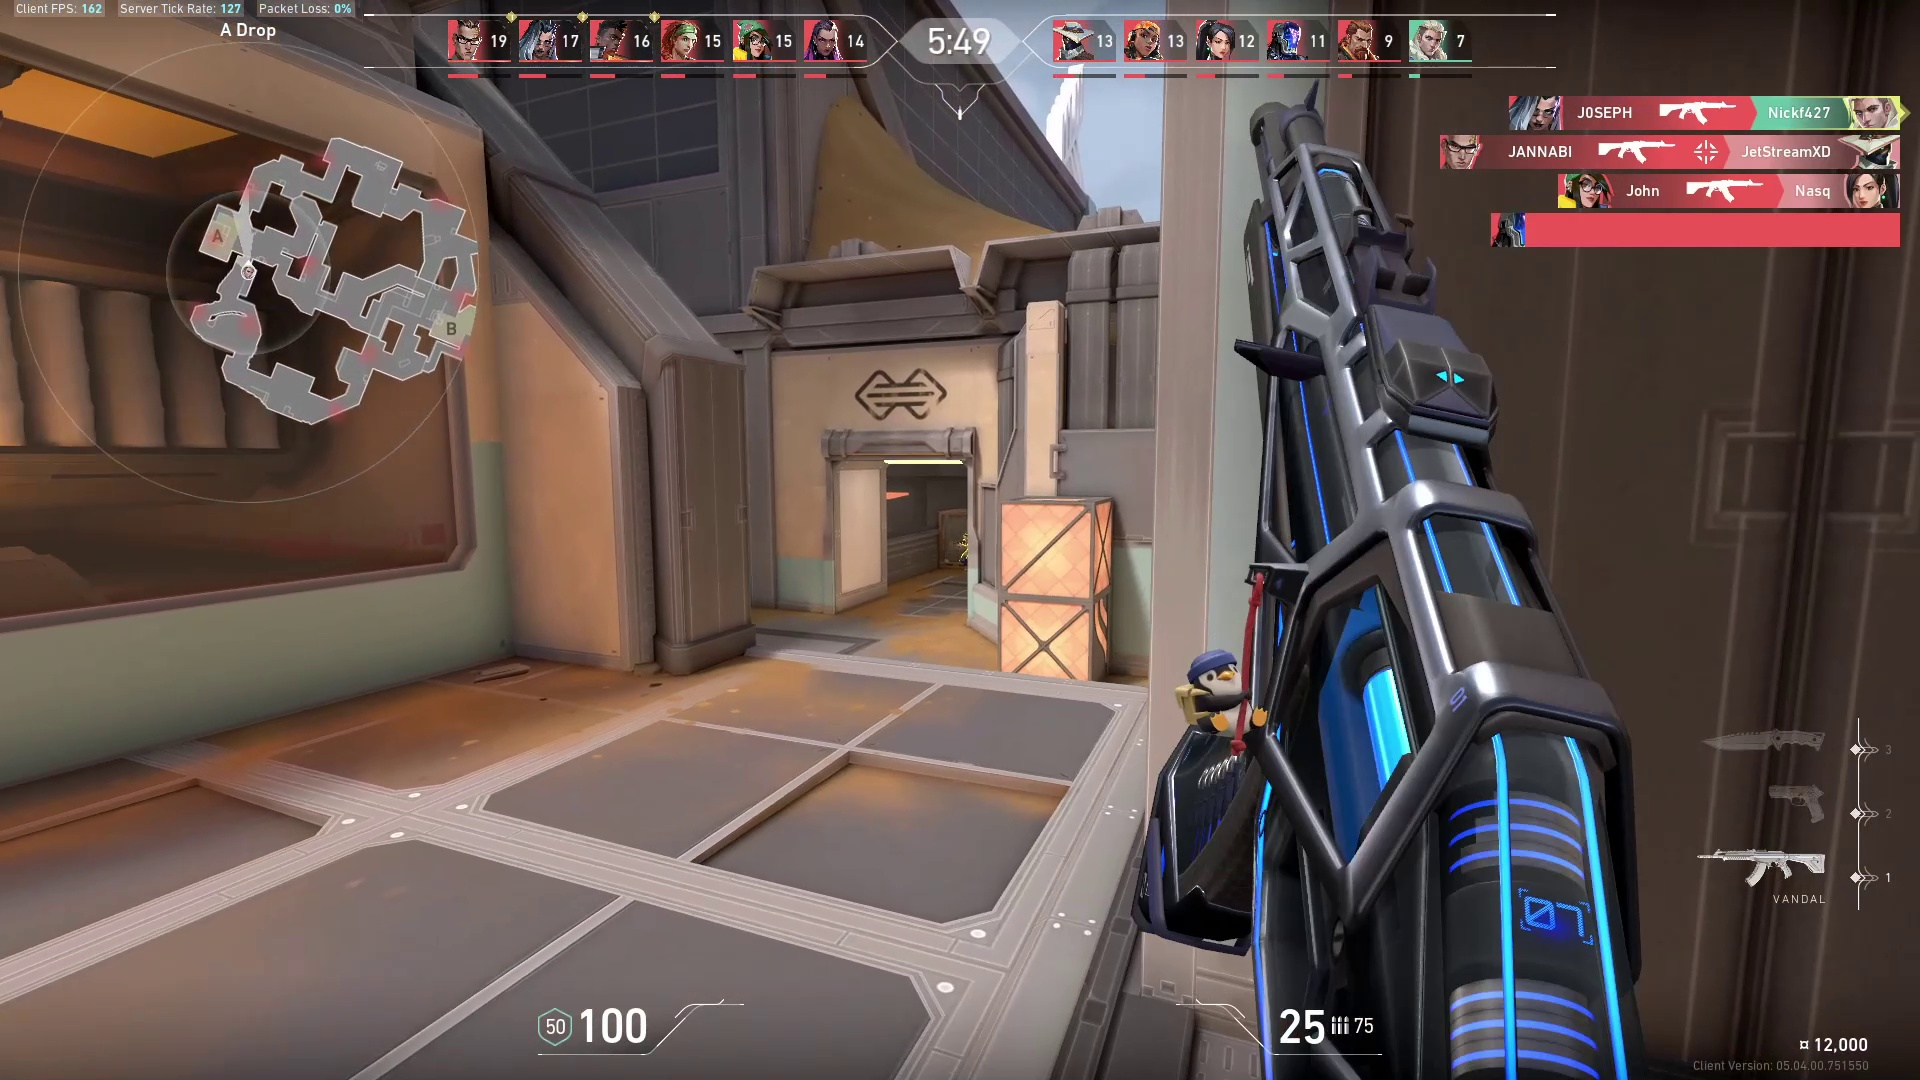enemy_body: (956, 541, 969, 568)
enemy_head: (961, 531, 969, 542)
